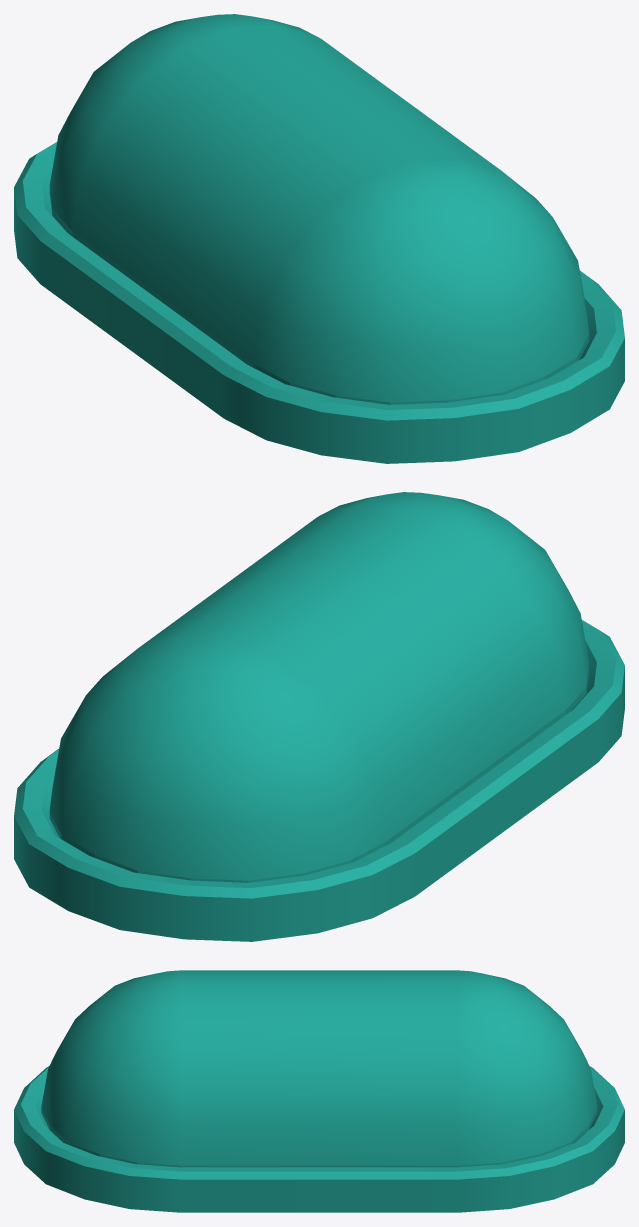
Rendered from SM_Pipes_LightSource.fbx.
3 views of the same model, one above another, from view 1: azimuth 30°, elevation 25°; view 2: azimuth 150°, elevation 25°; view 3: azimuth 270°, elevation 25° (orthographic). The views are drawn at different scales.
Parts seen in each view (by area): view 1: SM_Pipes_LightSource; view 2: SM_Pipes_LightSource; view 3: SM_Pipes_LightSource.
Boxes of the visible parts, left/top/right/bottom form: SM_Pipes_LightSource: left=14, top=14, right=624, bottom=463; SM_Pipes_LightSource: left=14, top=492, right=624, bottom=941; SM_Pipes_LightSource: left=14, top=970, right=624, bottom=1212.
Bounding box in the file's own units: 2.39 × 1.28 × 4.42.
